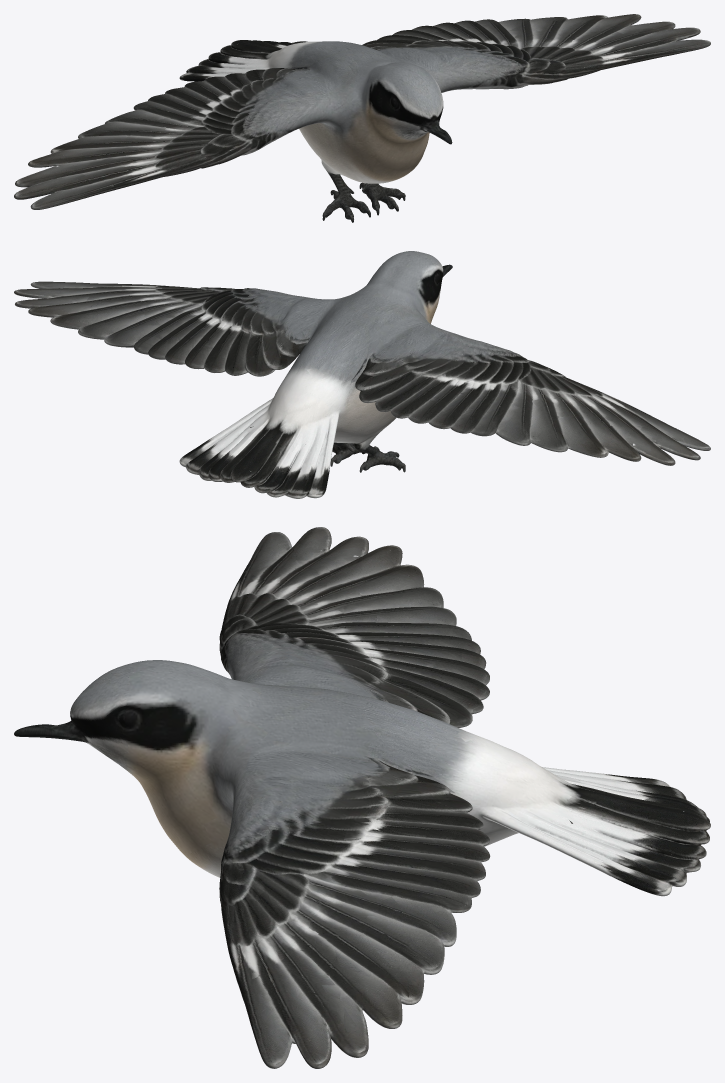
Rendered from Oenanthe_oenanthe.glb.
3 views of the same model, one above another, from view 1: azimuth 30°, elevation 25°; view 2: azimuth 150°, elevation 25°; view 3: azimuth 270°, elevation 25° (orthographic). The views are drawn at different scales.
Parts seen in each view (by area): view 1: orient; view 2: orient; view 3: orient.
Part boxes in pixels (x1,y1,x2,y2): orient: [14, 14, 710, 222]; orient: [14, 251, 710, 498]; orient: [14, 527, 710, 1068].
Bounding box in the file's own units: 0.5 × 0.121 × 0.2731.
1 material, 1 textured.
